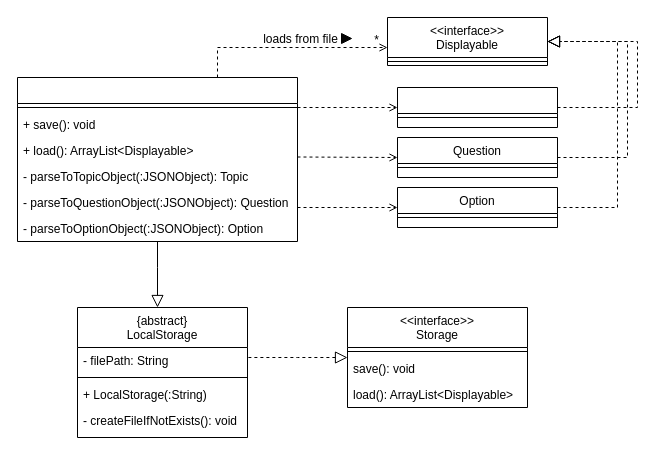
This 667x455 diagram has some shape labels left out. The box of each missing label's shape, as (x1, y1, x2, y2) in pixels:
Topic: (396, 86, 558, 128)
TopicsStorage: (16, 76, 298, 242)
